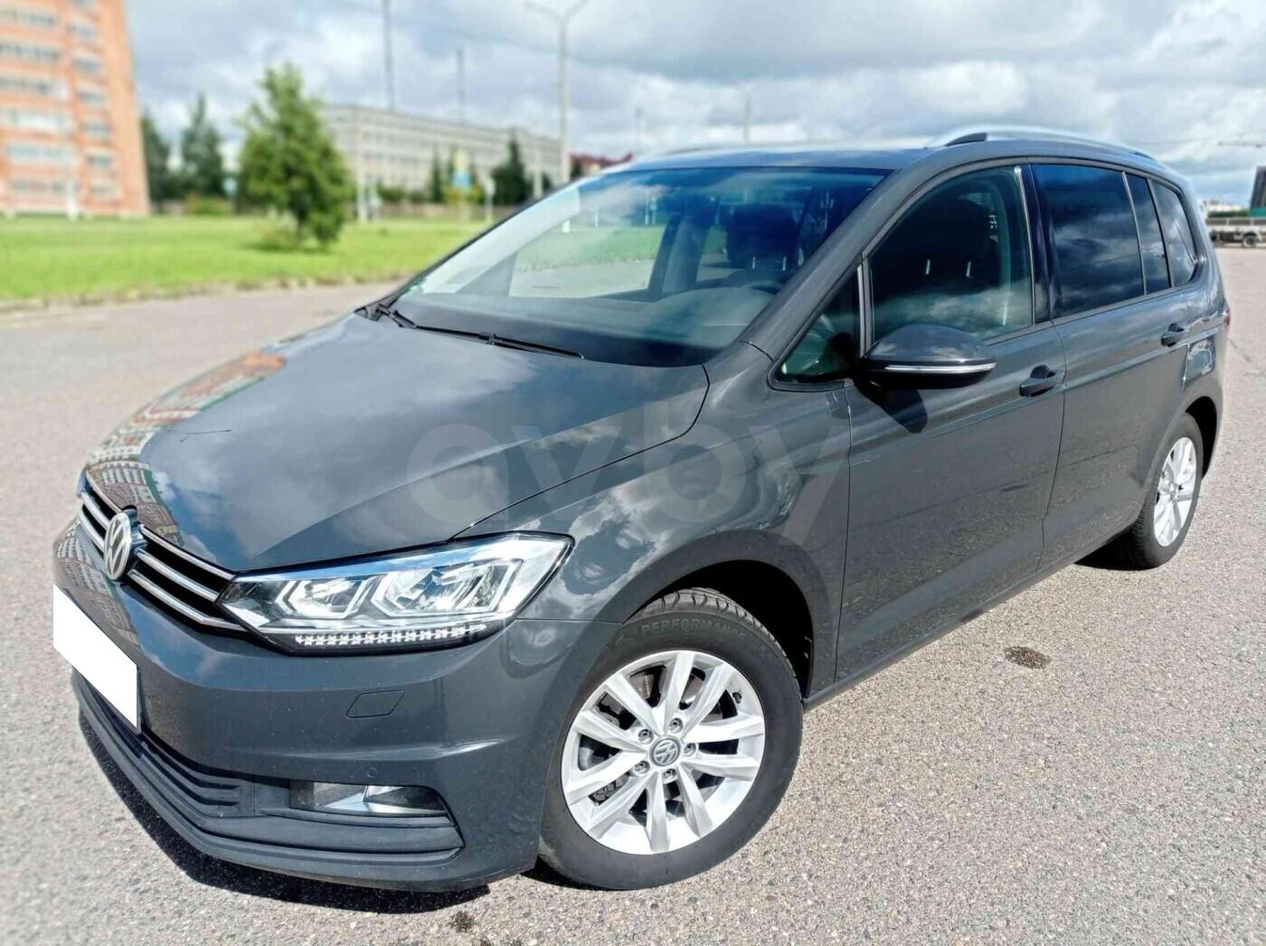Touran_2015: (44, 133, 1226, 902)
